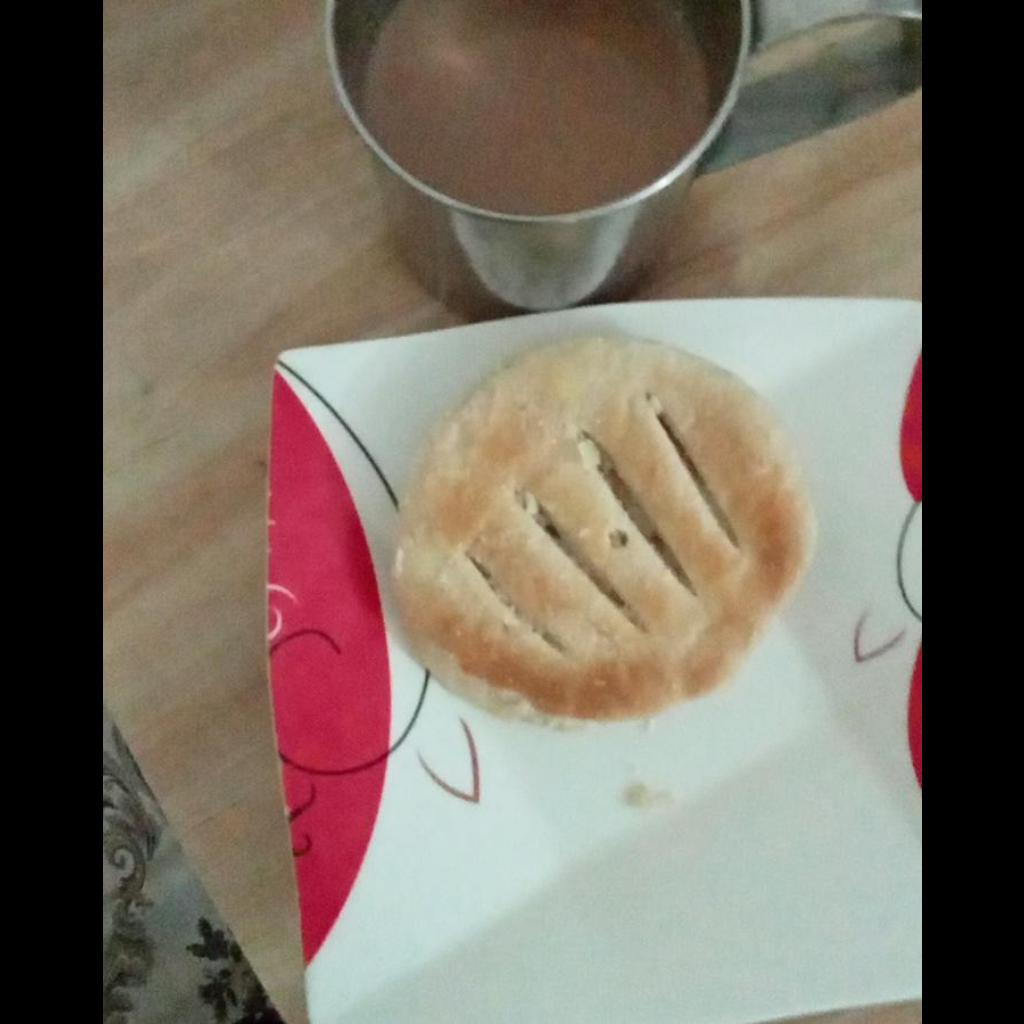cha: (362, 7, 707, 210)
ruti: (384, 326, 812, 735)
